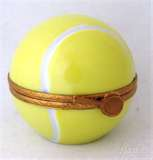tennis ball: (9, 12, 138, 144)
